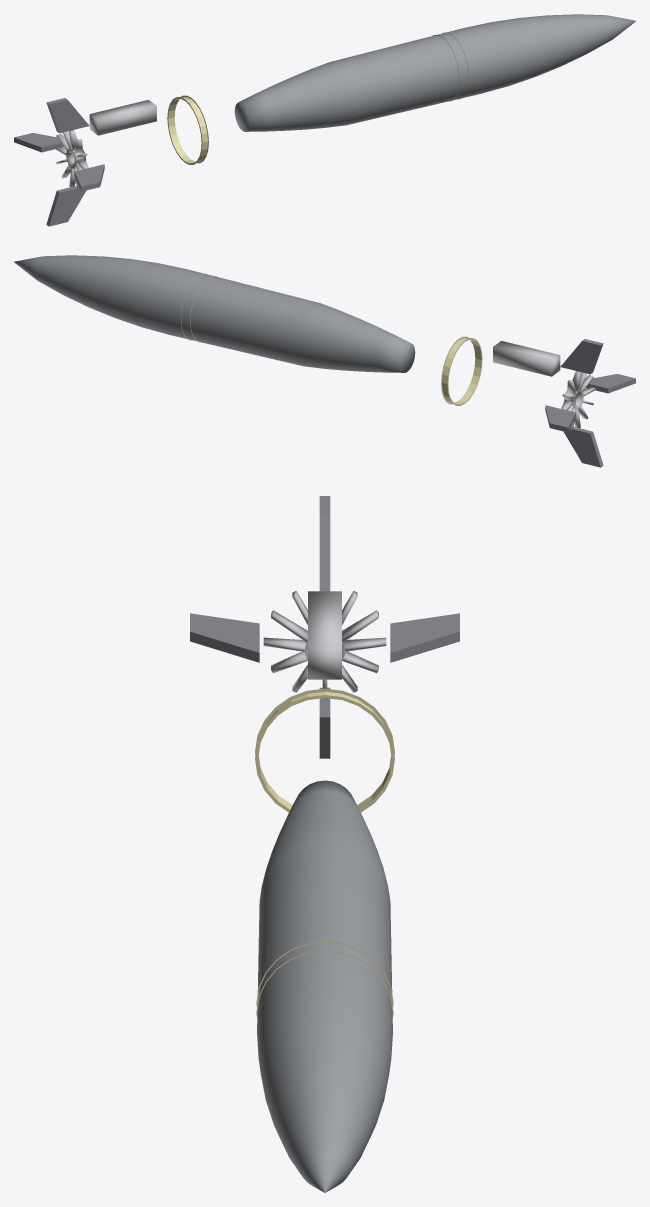
Rendered from US_TORP_Mk37_Mod2_LOD1.fbx.
3 renders of one model, top to bottom at view 1: azimuth 30°, elevation 25°; view 2: azimuth 150°, elevation 25°; view 3: azimuth 270°, elevation 25°, orthographic. The views are drawn at different scales.
Parts seen in each view (by area): view 1: WPN_US_TORP_Mk37_Mod2_LOD1_Body, WPN_US_TORP_Mk37_Mod2_LOD1_Fins, WPN_US_TORP_Mk37_Mod2_LOD1_Detail, WPN_US_TORP_Mk37_Mod2_LOD1_Marking, WPN_US_TORP_Mk37_Mod2_LOD1_Propulsor; view 2: WPN_US_TORP_Mk37_Mod2_LOD1_Body, WPN_US_TORP_Mk37_Mod2_LOD1_Fins, WPN_US_TORP_Mk37_Mod2_LOD1_Detail, WPN_US_TORP_Mk37_Mod2_LOD1_Marking, WPN_US_TORP_Mk37_Mod2_LOD1_Propulsor; view 3: WPN_US_TORP_Mk37_Mod2_LOD1_Body, WPN_US_TORP_Mk37_Mod2_LOD1_Fins, WPN_US_TORP_Mk37_Mod2_LOD1_Propulsor, WPN_US_TORP_Mk37_Mod2_LOD1_Marking, WPN_US_TORP_Mk37_Mod2_LOD1_Detail.
Boxes of the visible parts, x1,y1,x2,y2 form: WPN_US_TORP_Mk37_Mod2_LOD1_Body: (234, 14, 635, 131); WPN_US_TORP_Mk37_Mod2_LOD1_Fins: (14, 98, 104, 226); WPN_US_TORP_Mk37_Mod2_LOD1_Detail: (89, 100, 156, 135); WPN_US_TORP_Mk37_Mod2_LOD1_Marking: (167, 32, 469, 164); WPN_US_TORP_Mk37_Mod2_LOD1_Propulsor: (54, 130, 88, 188); WPN_US_TORP_Mk37_Mod2_LOD1_Body: (14, 255, 415, 372); WPN_US_TORP_Mk37_Mod2_LOD1_Fins: (545, 339, 635, 467); WPN_US_TORP_Mk37_Mod2_LOD1_Detail: (493, 341, 560, 376); WPN_US_TORP_Mk37_Mod2_LOD1_Marking: (180, 273, 482, 405); WPN_US_TORP_Mk37_Mod2_LOD1_Propulsor: (561, 371, 595, 429); WPN_US_TORP_Mk37_Mod2_LOD1_Body: (257, 780, 392, 1192); WPN_US_TORP_Mk37_Mod2_LOD1_Fins: (190, 496, 459, 758); WPN_US_TORP_Mk37_Mod2_LOD1_Propulsor: (263, 591, 386, 699); WPN_US_TORP_Mk37_Mod2_LOD1_Marking: (255, 688, 394, 1018); WPN_US_TORP_Mk37_Mod2_LOD1_Detail: (308, 591, 341, 679).
Bounding box in the file's own units: 4.82 × 0.9576 × 0.9576.
